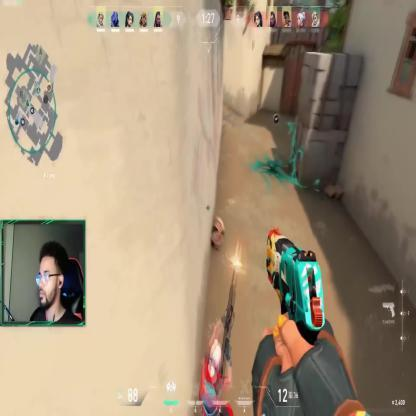enemy: (196, 323, 236, 416)
enemy_head: (210, 342, 221, 372)
